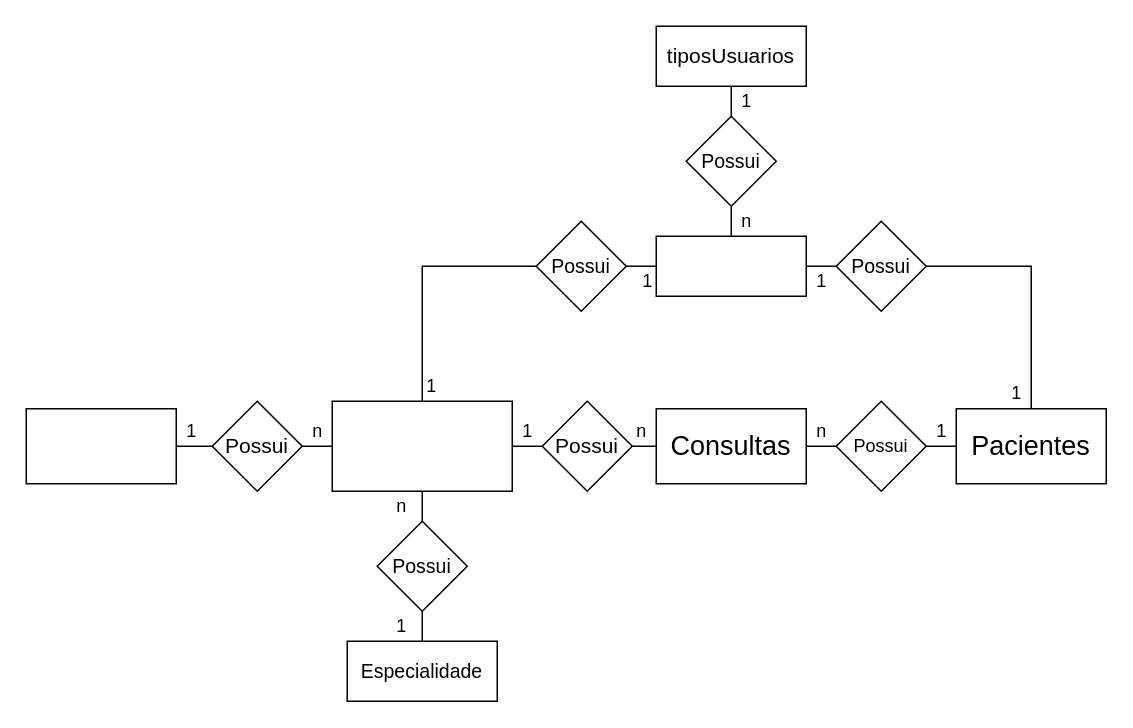
Image size: 1133x728. Some labels were removed from this diagram. Here are the shapes that lost their labels. From the top down, the centre of each, then its label:
the point at 730,265: Usuários
the point at 100,445: Clínica
the point at 421,445: Médicos
